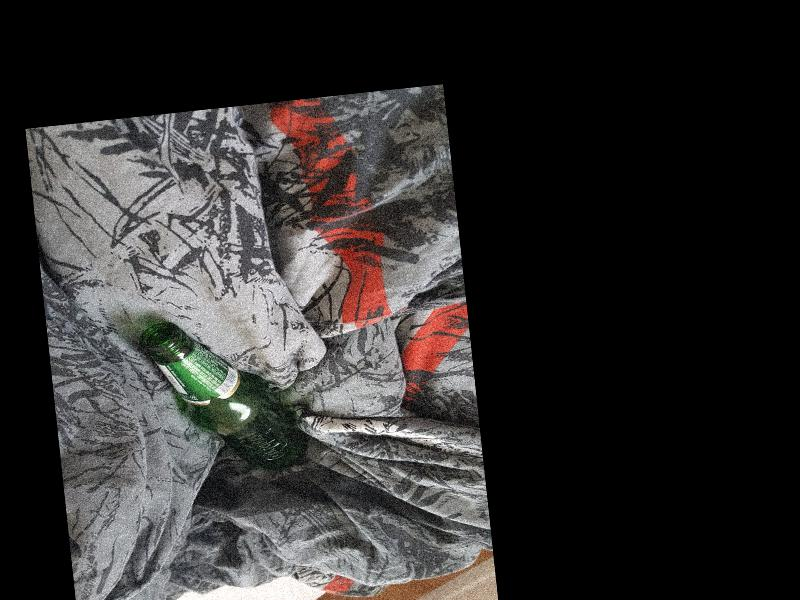Beer: (140, 306, 309, 482)
